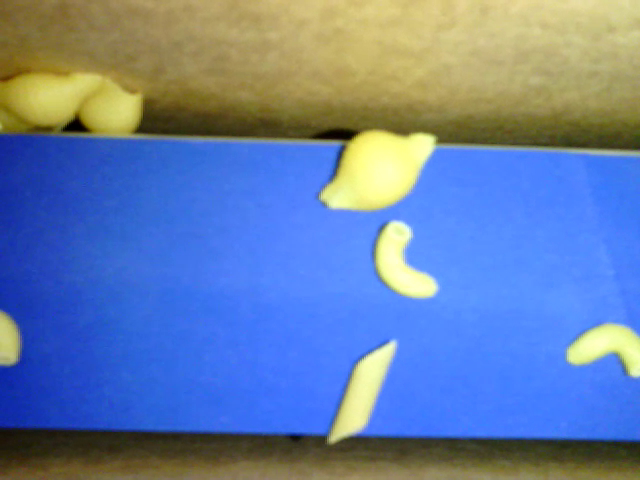elbow: (373, 214, 436, 300), (566, 320, 639, 375), (1, 308, 26, 366)
penne: (324, 336, 397, 450)
shell: (316, 128, 437, 209), (1, 73, 103, 119), (79, 71, 148, 139), (1, 106, 71, 134)
